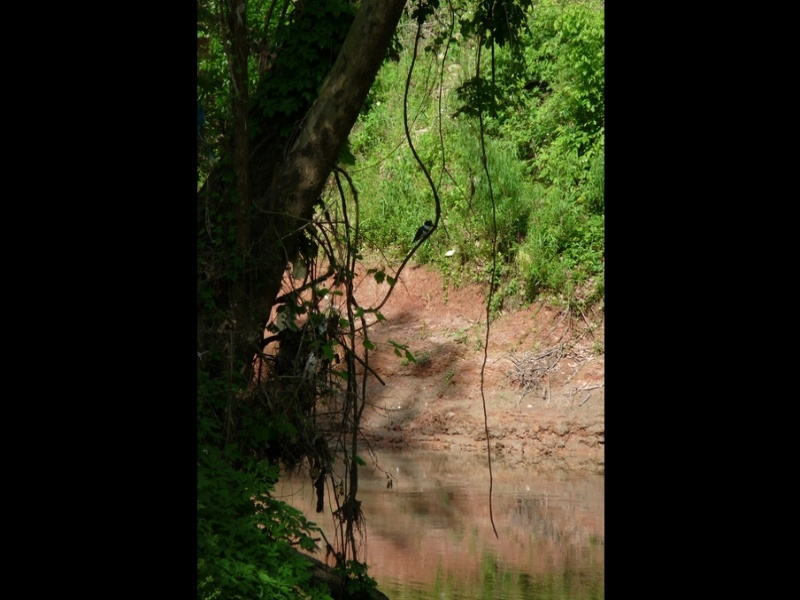kingfisher: (412, 217, 435, 244)
